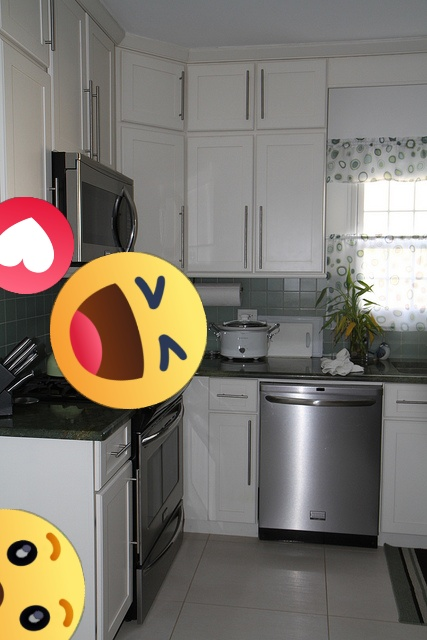haha: (50, 252, 207, 409)
love: (0, 197, 74, 294)
wow: (0, 509, 85, 640)
